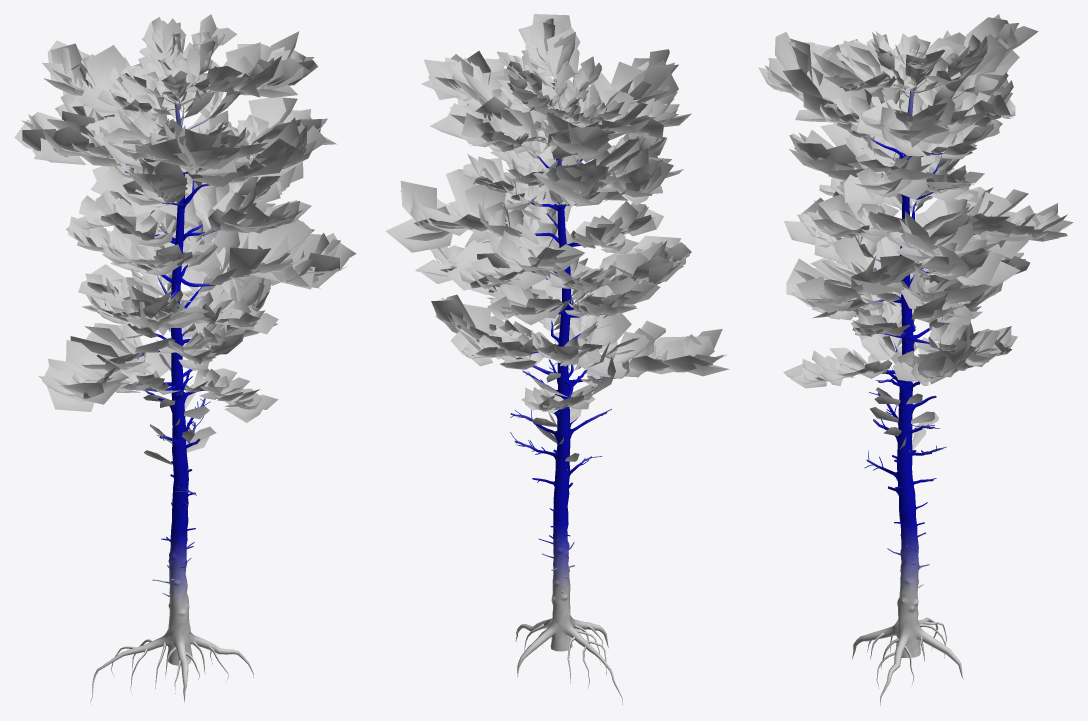
The model's file is Pine_03_LOD0.fbx.
The picture shows the model from 3 angles, left to right: view 1: azimuth 30°, elevation 25°; view 2: azimuth 150°, elevation 25°; view 3: azimuth 270°, elevation 25°; orthographic projection. The views are drawn at different scales.
Visible parts, largest first — view 1: polySurface3008; view 2: polySurface3008; view 3: polySurface3008.
Part boxes in pixels (<box>): polySurface3008: <box>14,14,356,704</box>; polySurface3008: <box>385,14,729,704</box>; polySurface3008: <box>758,14,1073,705</box>.
Bounding box in the file's own units: 1350 × 2843 × 1223.
